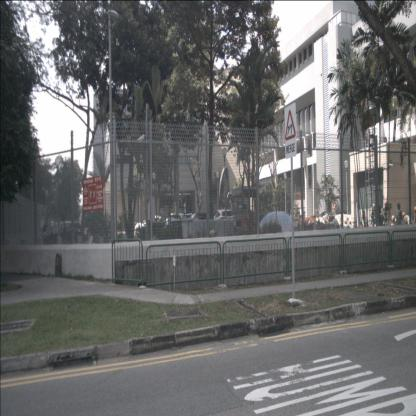vehicle-car: (258, 211, 298, 239), (40, 221, 88, 244), (212, 208, 236, 234), (164, 214, 183, 237), (191, 212, 207, 232)
